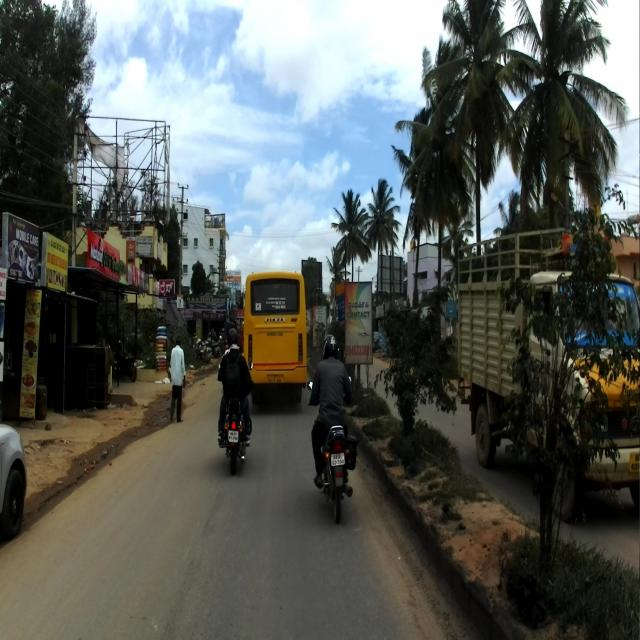bus: (242, 268, 307, 412)
motorcycle_Hero: (306, 375, 358, 525)
motorcycle_RoyalEnfield: (218, 358, 253, 476)
truck: (454, 226, 640, 523)
